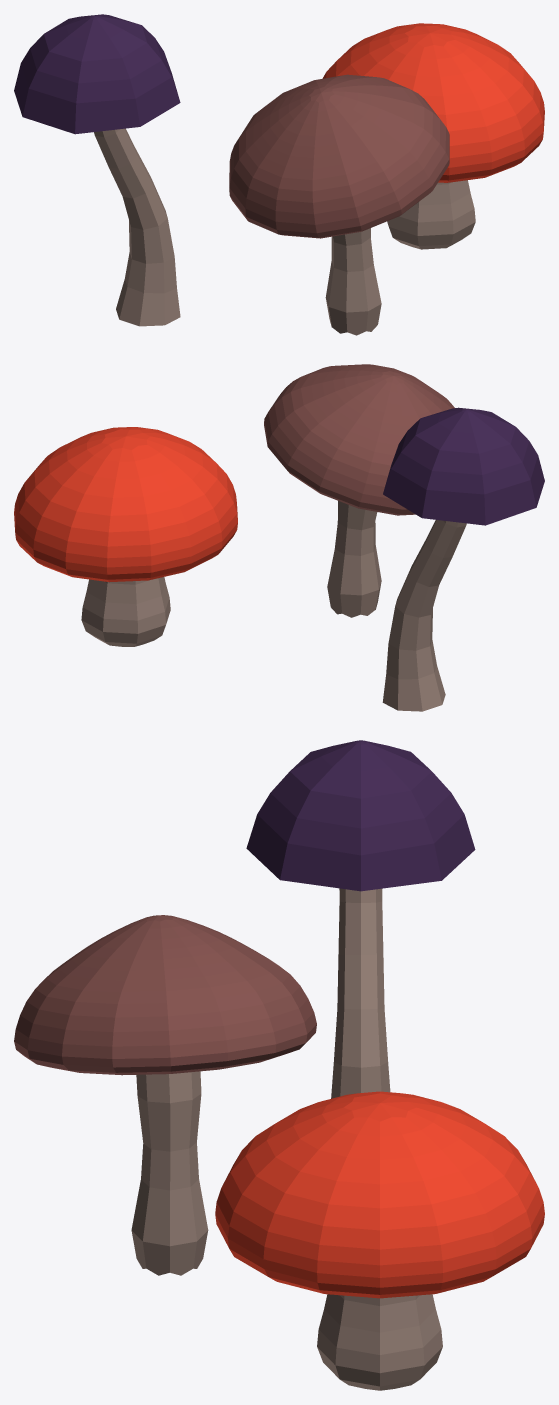
File: Cogumelos.fbx
3 views of the same model, one above another, from view 1: azimuth 30°, elevation 25°; view 2: azimuth 150°, elevation 25°; view 3: azimuth 270°, elevation 25° (orthographic). The views are drawn at different scales.
Visible parts, largest first — view 1: Cogumelos juntos; view 2: Cogumelos juntos; view 3: Cogumelos juntos.
Boxes of the visible parts, left/top/right/bottom form: Cogumelos juntos: left=14, top=14, right=544, bottom=335; Cogumelos juntos: left=14, top=364, right=544, bottom=711; Cogumelos juntos: left=14, top=740, right=544, bottom=1390.
Bounding box in the file's own units: 34.45 × 20.07 × 23.26.
